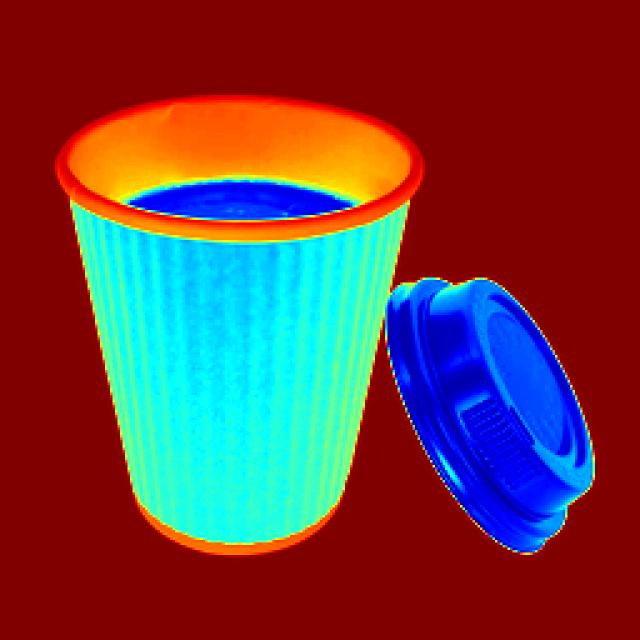Paper Cups: (48, 51, 609, 610)
